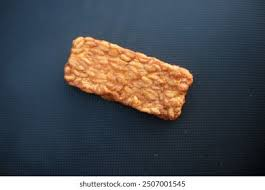Tempe goreng: (62, 29, 197, 128)
